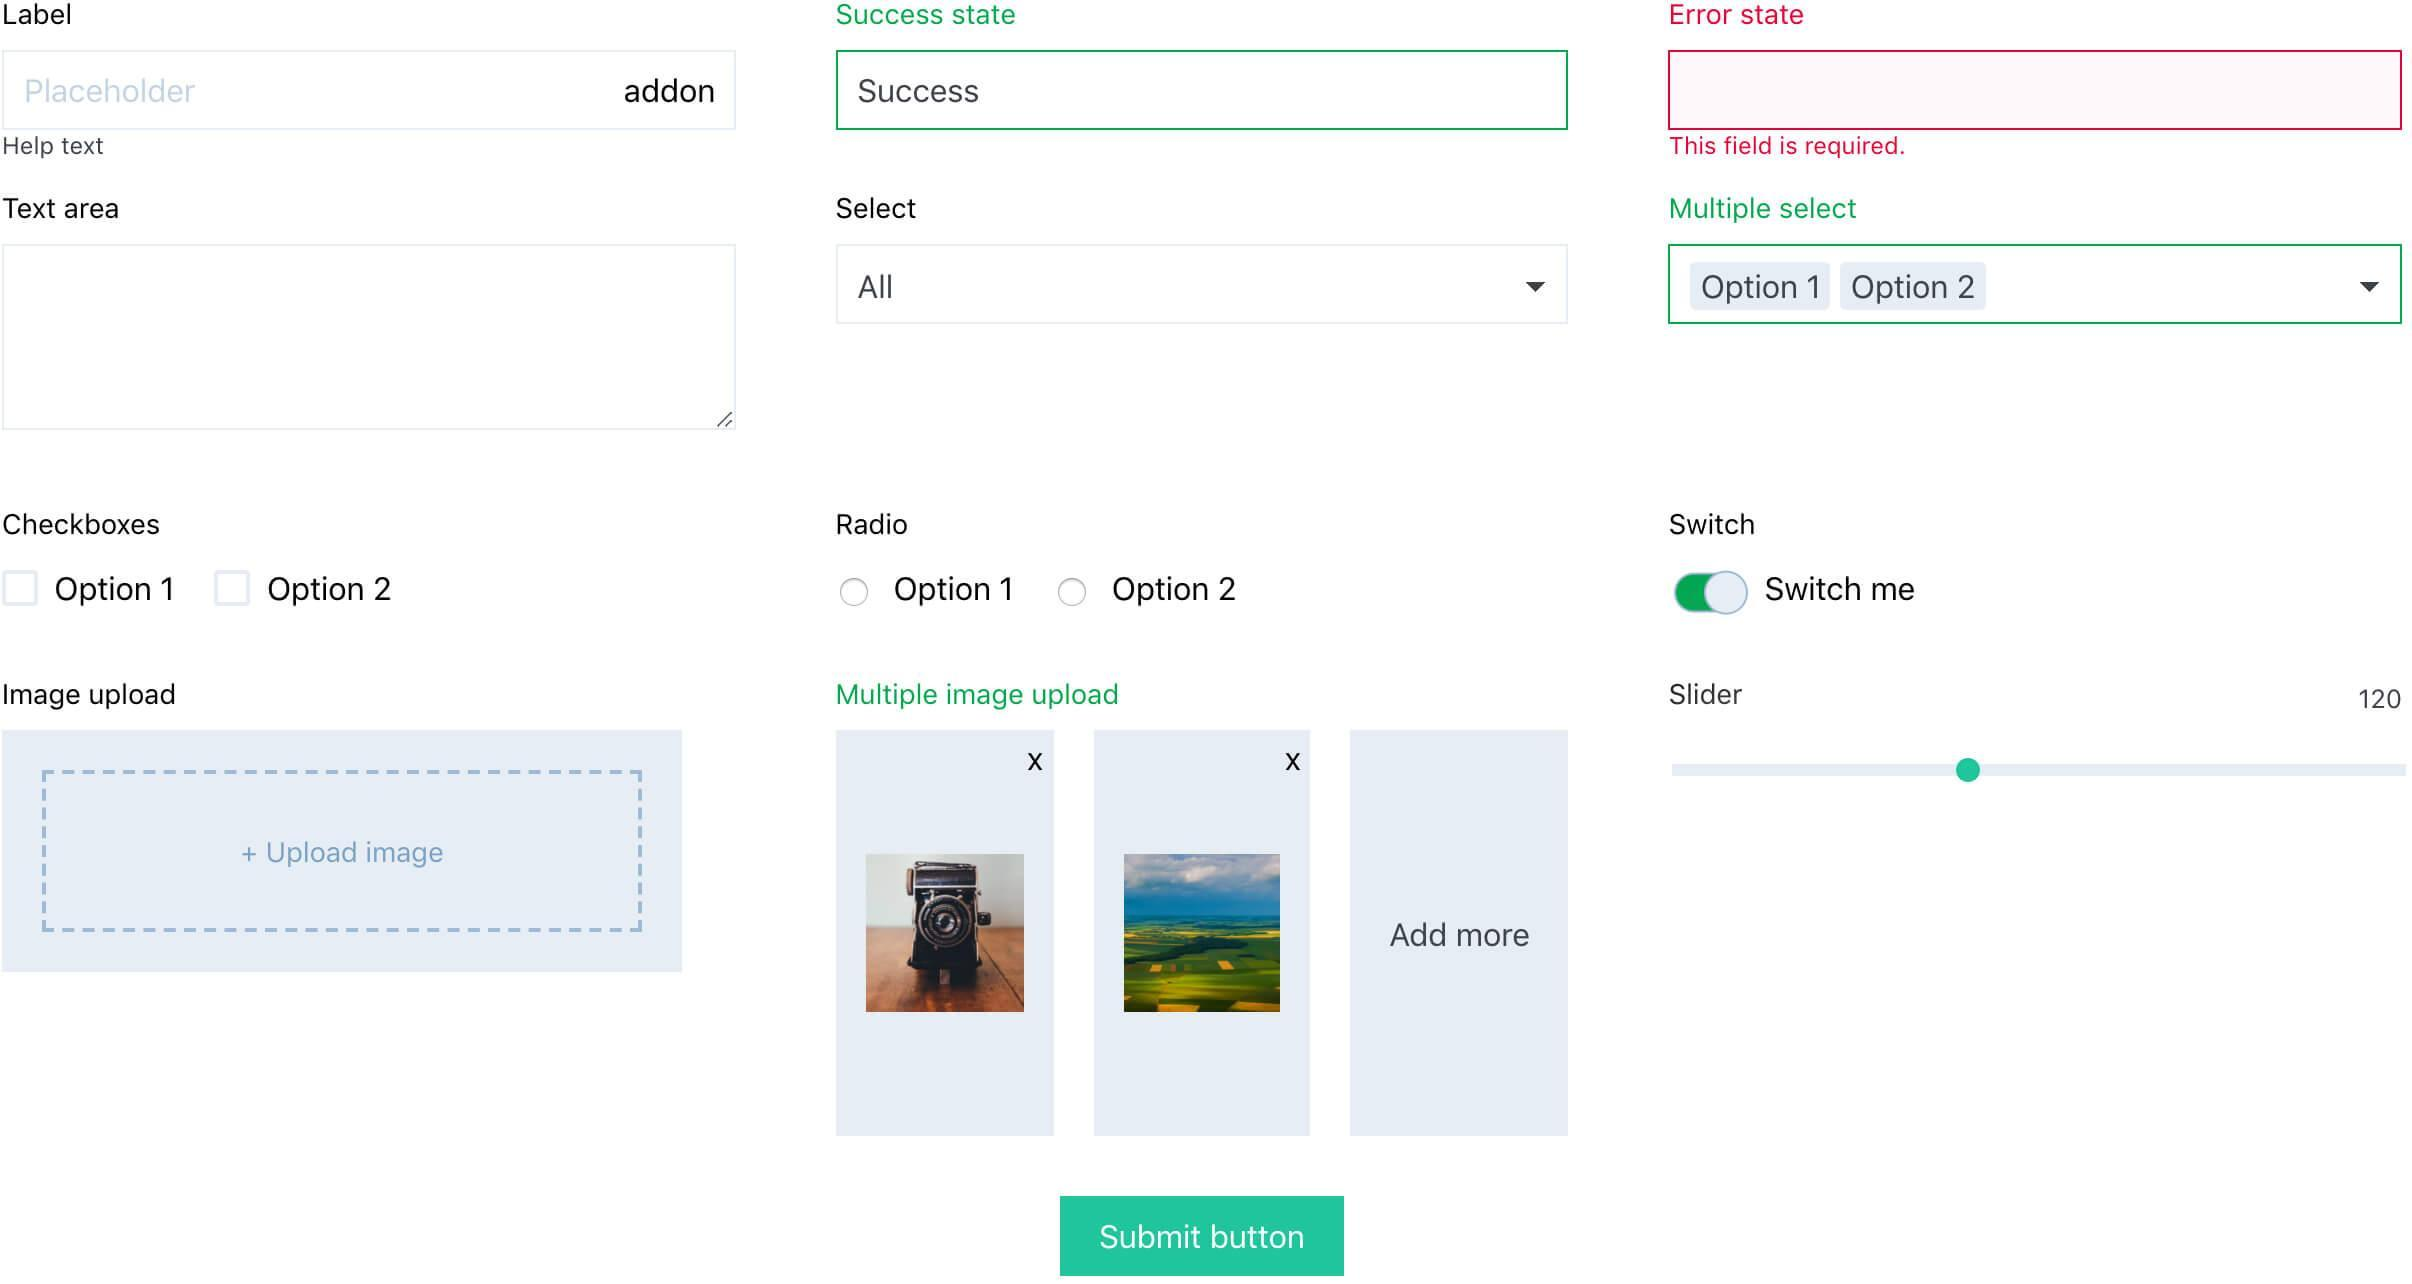button: (1059, 1199, 1345, 1274)
checkbox: (5, 569, 38, 609), (215, 573, 249, 608)
dropdown: (1672, 246, 2406, 324), (842, 246, 1567, 324)
input: (2, 49, 737, 132), (1669, 53, 2406, 132), (837, 49, 1570, 129)
label: (834, 683, 1126, 710), (1665, 196, 1862, 231), (1758, 566, 1922, 608), (2, 675, 182, 707), (54, 566, 177, 611), (262, 566, 404, 605), (1662, 3, 1814, 37), (1113, 569, 1239, 608), (1661, 499, 1763, 544), (2, 510, 164, 538), (826, 8, 1023, 30), (2, 196, 136, 228), (889, 576, 1016, 606), (830, 504, 916, 544), (2, 134, 116, 163), (2, 2, 86, 40), (830, 195, 924, 226), (1661, 681, 1755, 711), (2, 2, 80, 37), (2355, 678, 2410, 718)
radio: (1051, 574, 1098, 616), (834, 573, 877, 611)
slider: (1657, 731, 2412, 805)
switch: (1673, 566, 1755, 616)
